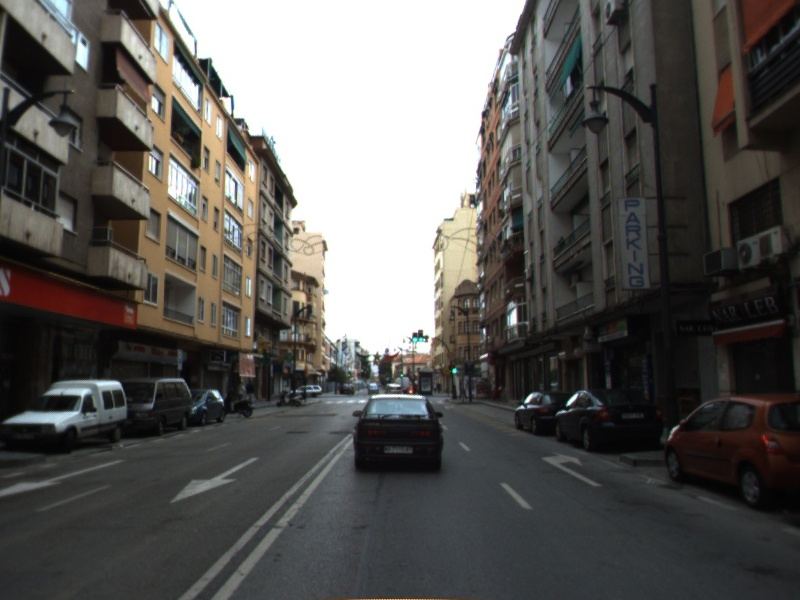RIGHT: (540, 450, 604, 489)
